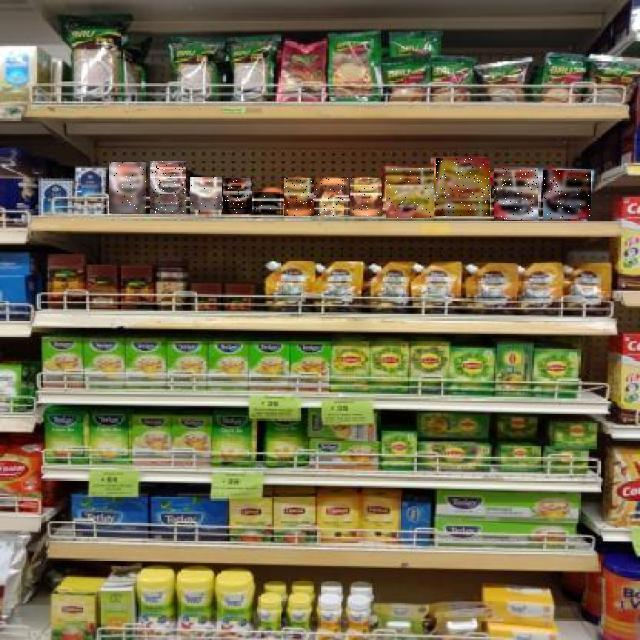Coffee: (436, 158, 490, 216), (386, 168, 434, 218), (543, 170, 591, 219), (494, 168, 538, 220), (110, 162, 148, 213), (151, 161, 187, 214), (316, 178, 349, 216), (350, 178, 382, 216), (190, 178, 222, 214), (284, 178, 314, 216), (223, 178, 252, 214), (255, 192, 281, 214)
